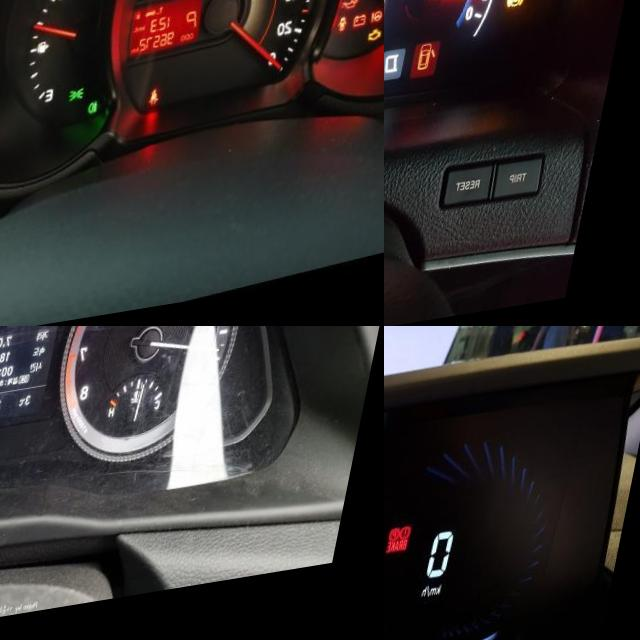Doors: (432, 56, 454, 86), (354, 30, 365, 46)
FrontFogLight: (106, 106, 118, 121)
SideLamp: (85, 91, 104, 108)
